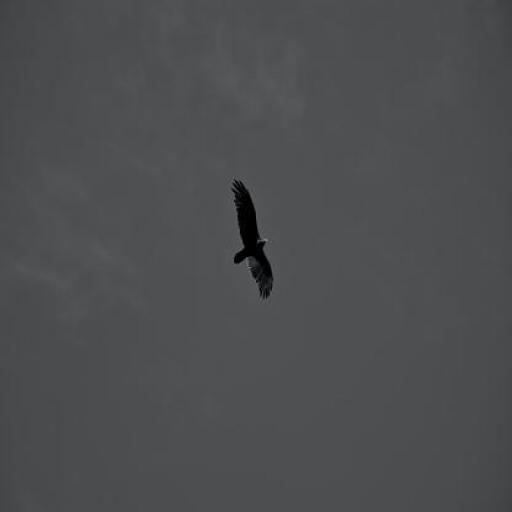bird: (232, 178, 274, 298)
